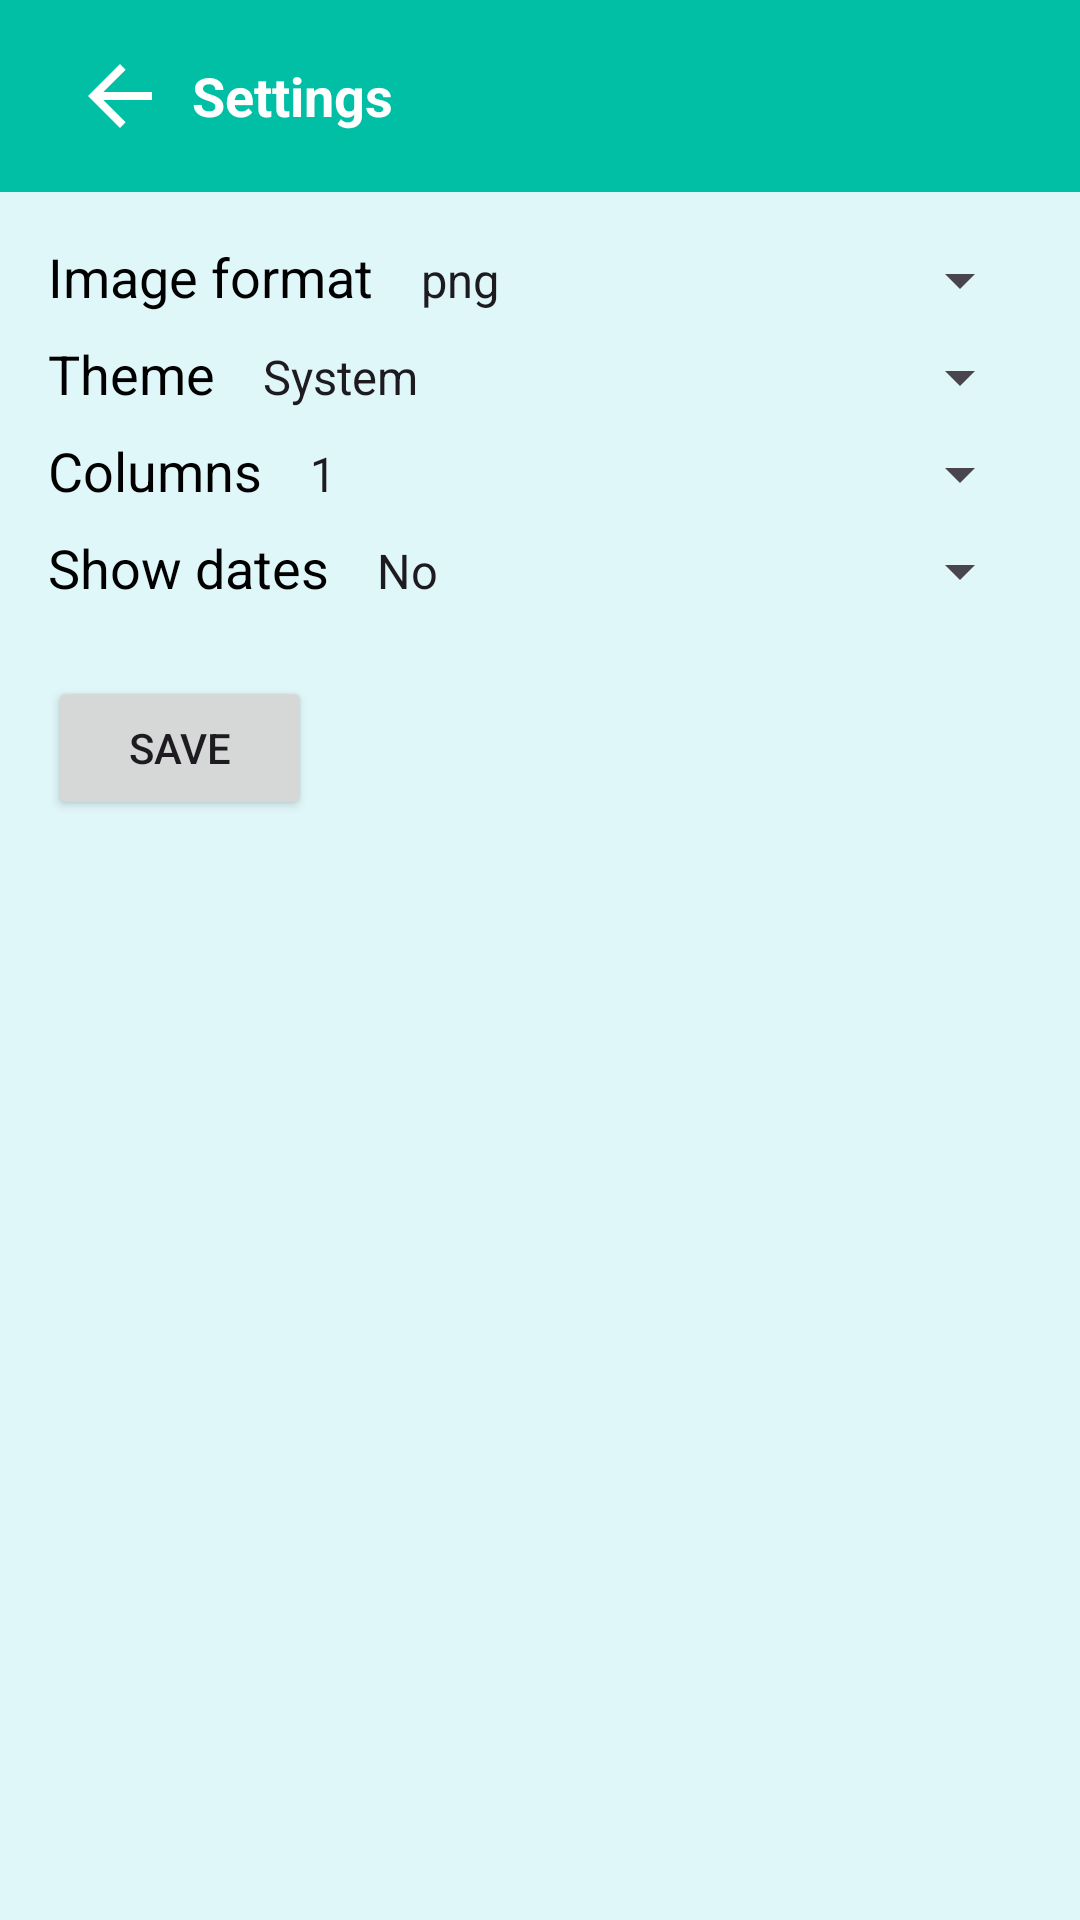

Screen size 1080 × 1920. Icon name, then its center in pixels as (x,y):
Back: (120,96)
